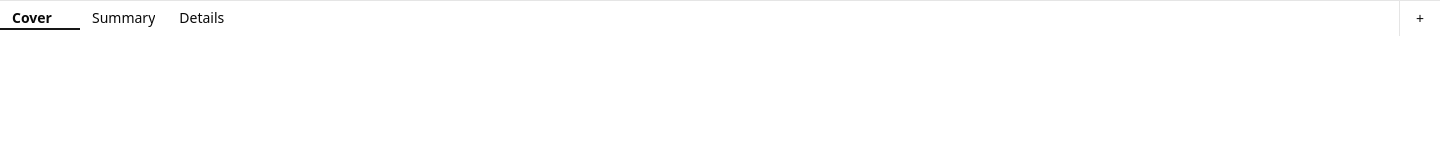
PageTabBar › double-click opens rename input
Double-click the element with test id "page-tab-page-1" at (40, 18), box [0,8,80,30]
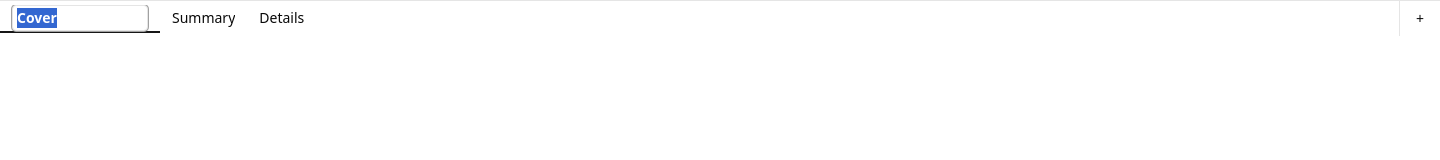
Check: the field with test id "page-tab-rename-input" is shown, box [12,4,148,30]
